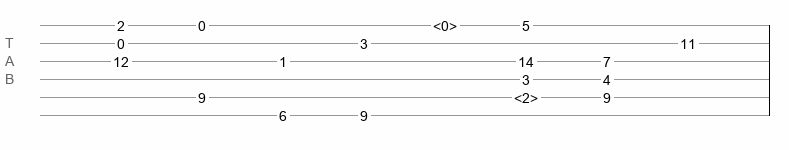0: (117, 36, 125, 46), (198, 18, 206, 28)
1: (279, 54, 287, 64)
11: (680, 36, 696, 46)
12: (113, 54, 129, 64)
14: (518, 54, 534, 64)
2: (117, 18, 125, 28)
3: (360, 36, 368, 46), (522, 72, 530, 82)
4: (603, 72, 611, 82)
5: (522, 18, 530, 28)
6: (279, 108, 287, 118)
7: (603, 54, 611, 64)
9: (198, 90, 206, 100), (360, 108, 368, 118), (603, 90, 611, 100)
harmonic: (433, 18, 457, 28), (514, 90, 538, 100)
